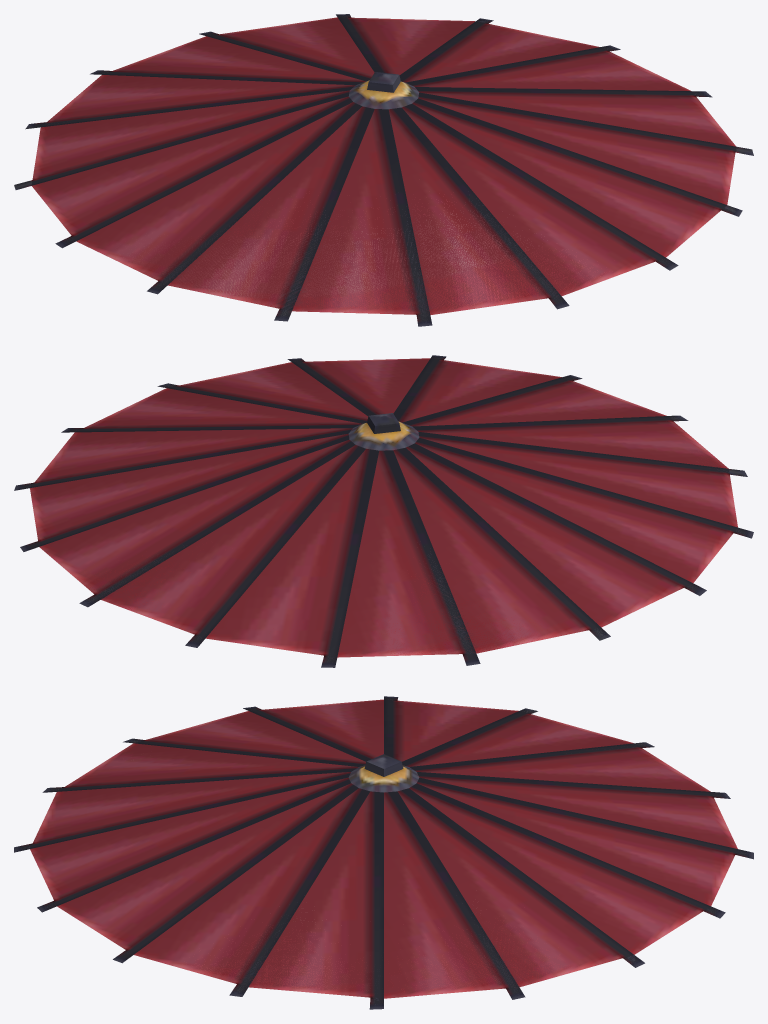
The model's file is shield0034.fbx.
The picture shows the model from 3 angles, top to bottom: view 1: azimuth 30°, elevation 25°; view 2: azimuth 150°, elevation 25°; view 3: azimuth 270°, elevation 25°; orthographic projection.
Visible parts, largest first — view 1: shield0034_m; view 2: shield0034_m; view 3: shield0034_m.
Boxes of the visible parts, x1,y1,x2,y2 form: shield0034_m: (14, 14, 753, 326); shield0034_m: (14, 355, 753, 667); shield0034_m: (14, 696, 753, 1009).
Bounding box in the file's own units: 0.4754 × 0.1378 × 0.4754.
